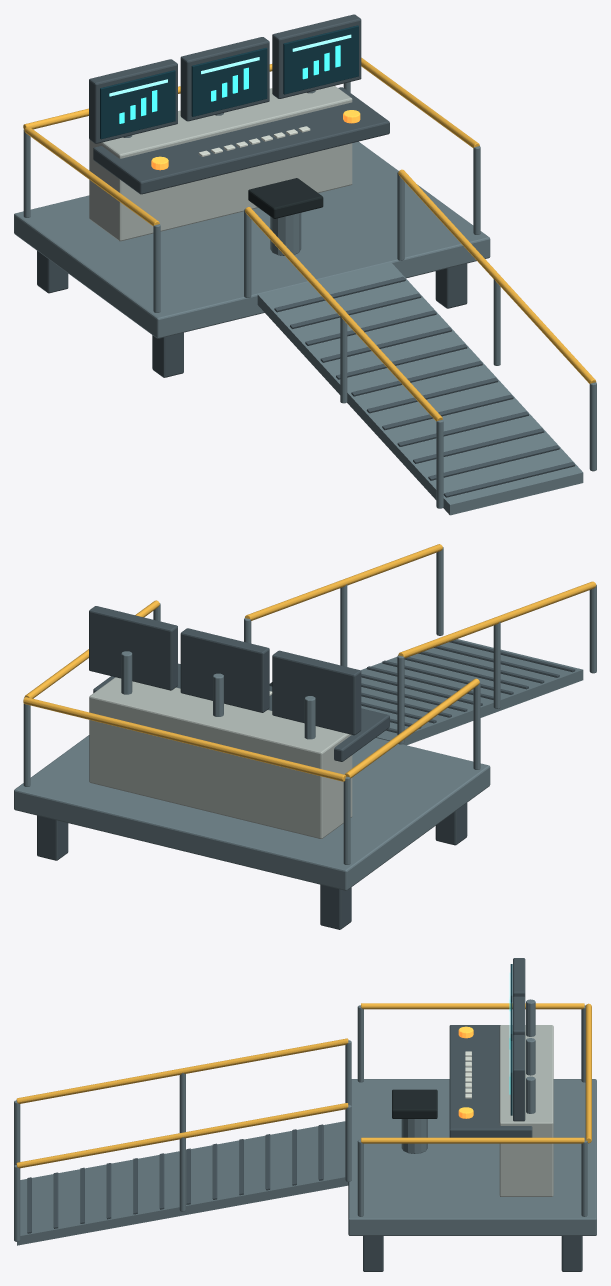
The model's file is control_platform_d0.glb.
3 renders of one model, top to bottom at view 1: azimuth 30°, elevation 25°; view 2: azimuth 150°, elevation 25°; view 3: azimuth 270°, elevation 25°, orthographic. The views are drawn at different scales.
Parts seen in each view (by area): view 1: Operator platform.004, Human access ramp.004, Control cabinet.003, Operator desk.003, Monitor screen.008, Monitor screen.009, Monitor screen.007, Ramp handrail.009, Ramp handrail.008, Monitor housing.009, Monitor housing.008, Monitor housing.007 (+28 smaller); view 2: Operator platform.004, Control cabinet.003, Human access ramp.004, Monitor housing.007, Monitor housing.008, Monitor housing.009, Platform back rail.004, Ramp handrail.008, Ramp handrail.009, Operator desk.003, Platform side rail.008, Platform pier.017 (+16 smaller); view 3: Operator platform.004, Human access ramp.004, Control cabinet.003, Operator desk.003, Ramp handrail.008, Ramp handrail.009, Platform side rail.009, Platform side rail.008, Stool seat.003, Monitor housing.009, Platform back rail.004, Platform pier.019 (+12 smaller).
Part boxes in pixels (left/top/right/bottom): Operator platform.004: left=14, top=141, right=490, bottom=338; Human access ramp.004: left=257, top=262, right=583, bottom=515; Control cabinet.003: left=89, top=86, right=352, bottom=241; Operator desk.003: left=93, top=87, right=389, bottom=194; Monitor screen.008: left=191, top=47, right=267, bottom=116; Monitor screen.009: left=283, top=25, right=358, bottom=94; Monitor screen.007: left=100, top=70, right=175, bottom=139; Ramp handrail.009: left=398, top=169, right=596, bottom=383; Ramp handrail.008: left=244, top=207, right=442, bottom=421; Monitor housing.009: left=272, top=14, right=361, bottom=98; Monitor housing.008: left=180, top=37, right=269, bottom=121; Monitor housing.007: left=89, top=59, right=177, bottom=143; Operator platform.004: left=14, top=735, right=490, bottom=890; Control cabinet.003: left=89, top=677, right=352, bottom=838; Human access ramp.004: left=360, top=639, right=583, bottom=745; Monitor housing.007: left=272, top=650, right=361, bottom=735; Monitor housing.008: left=180, top=628, right=269, bottom=712; Monitor housing.009: left=89, top=606, right=177, bottom=690; Platform back rail.004: left=23, top=697, right=345, bottom=781; Ramp handrail.008: left=398, top=581, right=596, bottom=658; Ramp handrail.009: left=245, top=544, right=442, bottom=620; Operator desk.003: left=93, top=663, right=389, bottom=761; Platform side rail.008: left=345, top=678, right=479, bottom=778; Platform pier.017: left=320, top=884, right=351, bottom=929; Operator platform.004: left=348, top=1079, right=596, bottom=1235; Human access ramp.004: left=17, top=1121, right=348, bottom=1245; Control cabinet.003: left=499, top=1025, right=553, bottom=1196; Operator desk.003: left=449, top=1025, right=532, bottom=1137; Ramp handrail.008: left=16, top=1038, right=348, bottom=1103; Ramp handrail.009: left=16, top=1103, right=348, bottom=1168; Platform side rail.009: left=361, top=1137, right=584, bottom=1143; Platform side rail.008: left=361, top=1003, right=584, bottom=1009; Stool seat.003: left=392, top=1089, right=437, bottom=1118; Monitor housing.009: left=513, top=1035, right=525, bottom=1121; Platform back rail.004: left=585, top=1003, right=591, bottom=1143; Platform pier.019: left=561, top=1236, right=582, bottom=1271.
Size of the model in its own units: 4 by 2.72 by 7.04.
